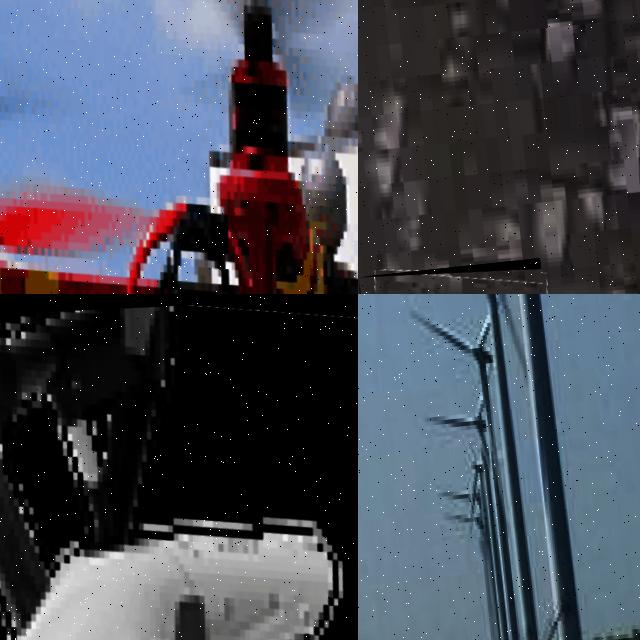drone: (0, 294, 358, 640), (0, 0, 358, 294)
